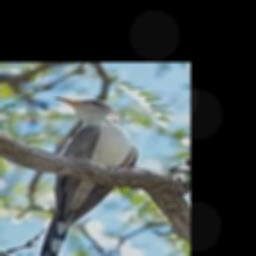Cuckoo: (38, 97, 138, 256)
